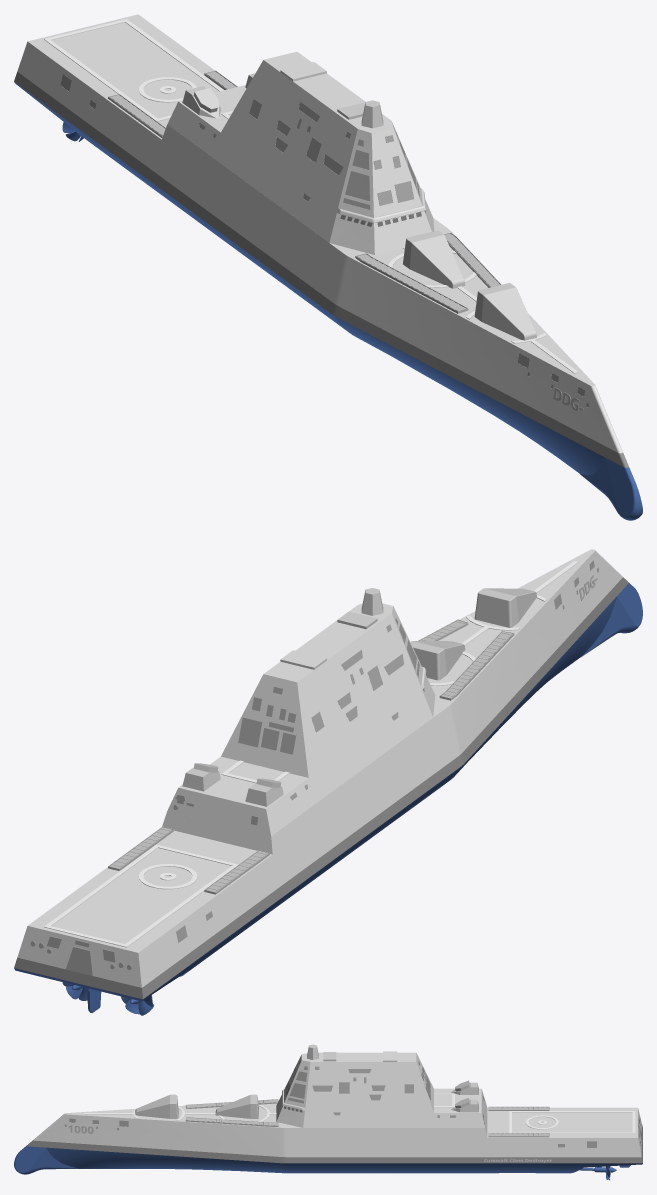
3 renders of one model, top to bottom at view 1: azimuth 30°, elevation 25°; view 2: azimuth 150°, elevation 25°; view 3: azimuth 270°, elevation 25°, orthographic. The views are drawn at different scales.
Visible parts, largest first — view 1: model6; view 2: model6; view 3: model6.
Part boxes in pixels (box(x1,y1,x2,y2)): model6: box(14, 14, 642, 520); model6: box(14, 549, 642, 1015); model6: box(14, 1044, 642, 1180).
Size of the model in its own units: 0.0624 by 0.1051 by 0.469.
